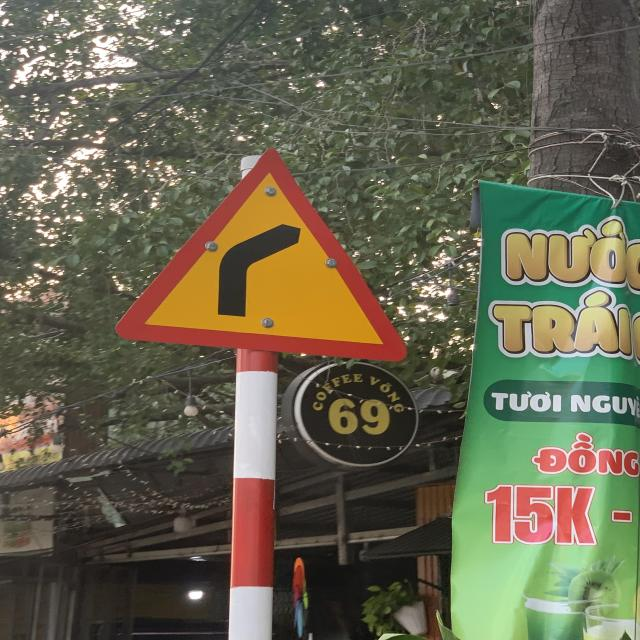Duong_Nguoi_Di_Bo_Cat_Ngang: (110, 145, 407, 358)
